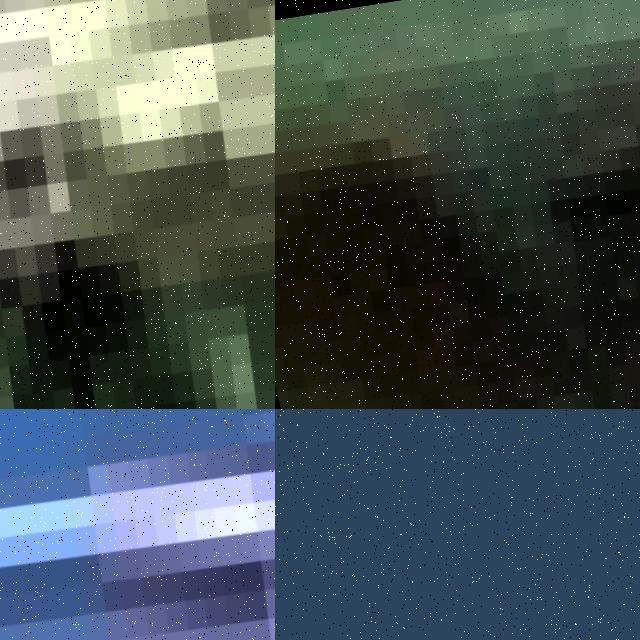drone: (275, 0, 640, 409), (0, 0, 275, 409), (0, 409, 275, 640)
